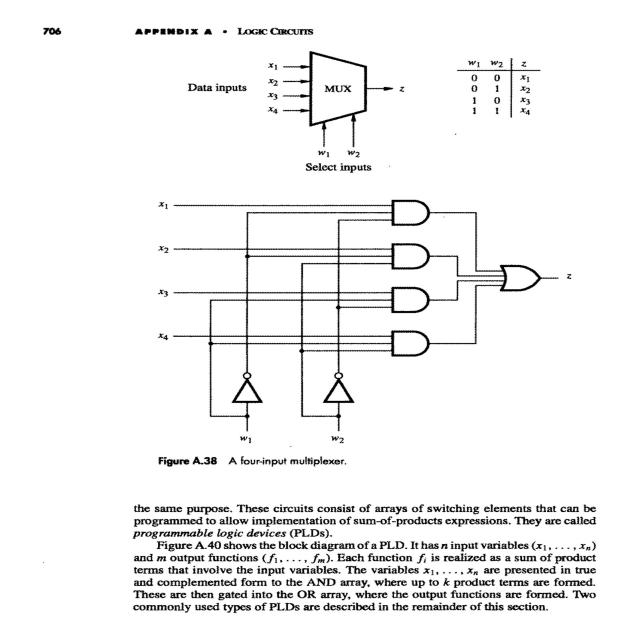diagram: (133, 45, 586, 470)
